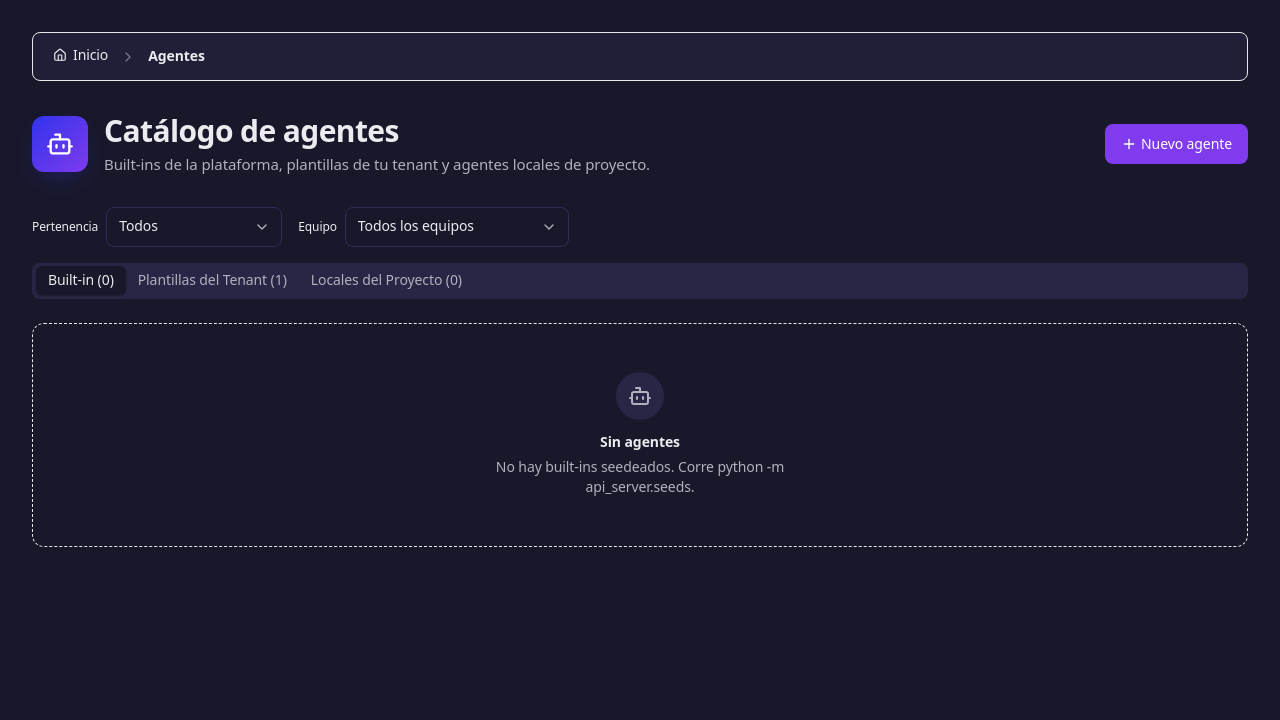
Test: catálogo de agentes › en castellano rinde cabecera, filtros y pestañas
The width and height of the screenshot is (1280, 720).
Expected: the heading "Catálogo de agentes" is shown, [104,110,399,151]
Expected: the element with test id "agents-tabs" is shown, [32,263,1248,547]
Step 1. Click the tab with test id "tab-local" → (386, 281), box [299,266,474,295]
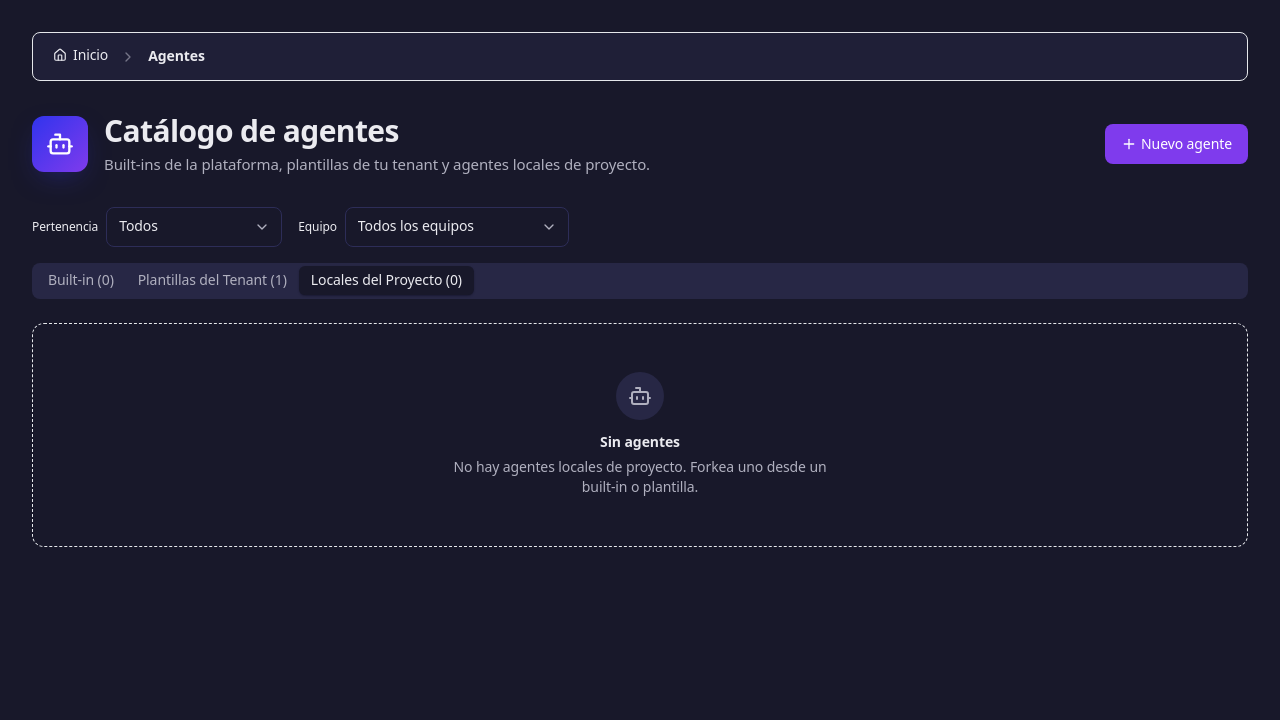
Expected: the text "No hay agentes locales de proyecto" is shown, [453,457,827,496]
